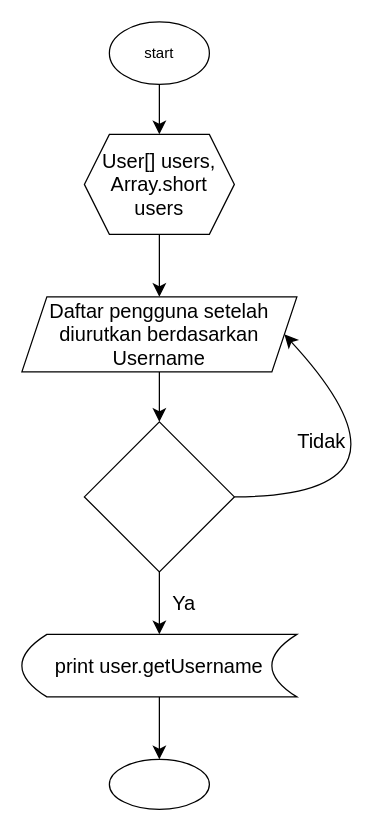
Some shapes in this 381 by 831 pixel diagram are drawn without their labels. The centre of each missing label's shape, as x and y in pixels:
end: point 158,783
User user : users: point 158,496
